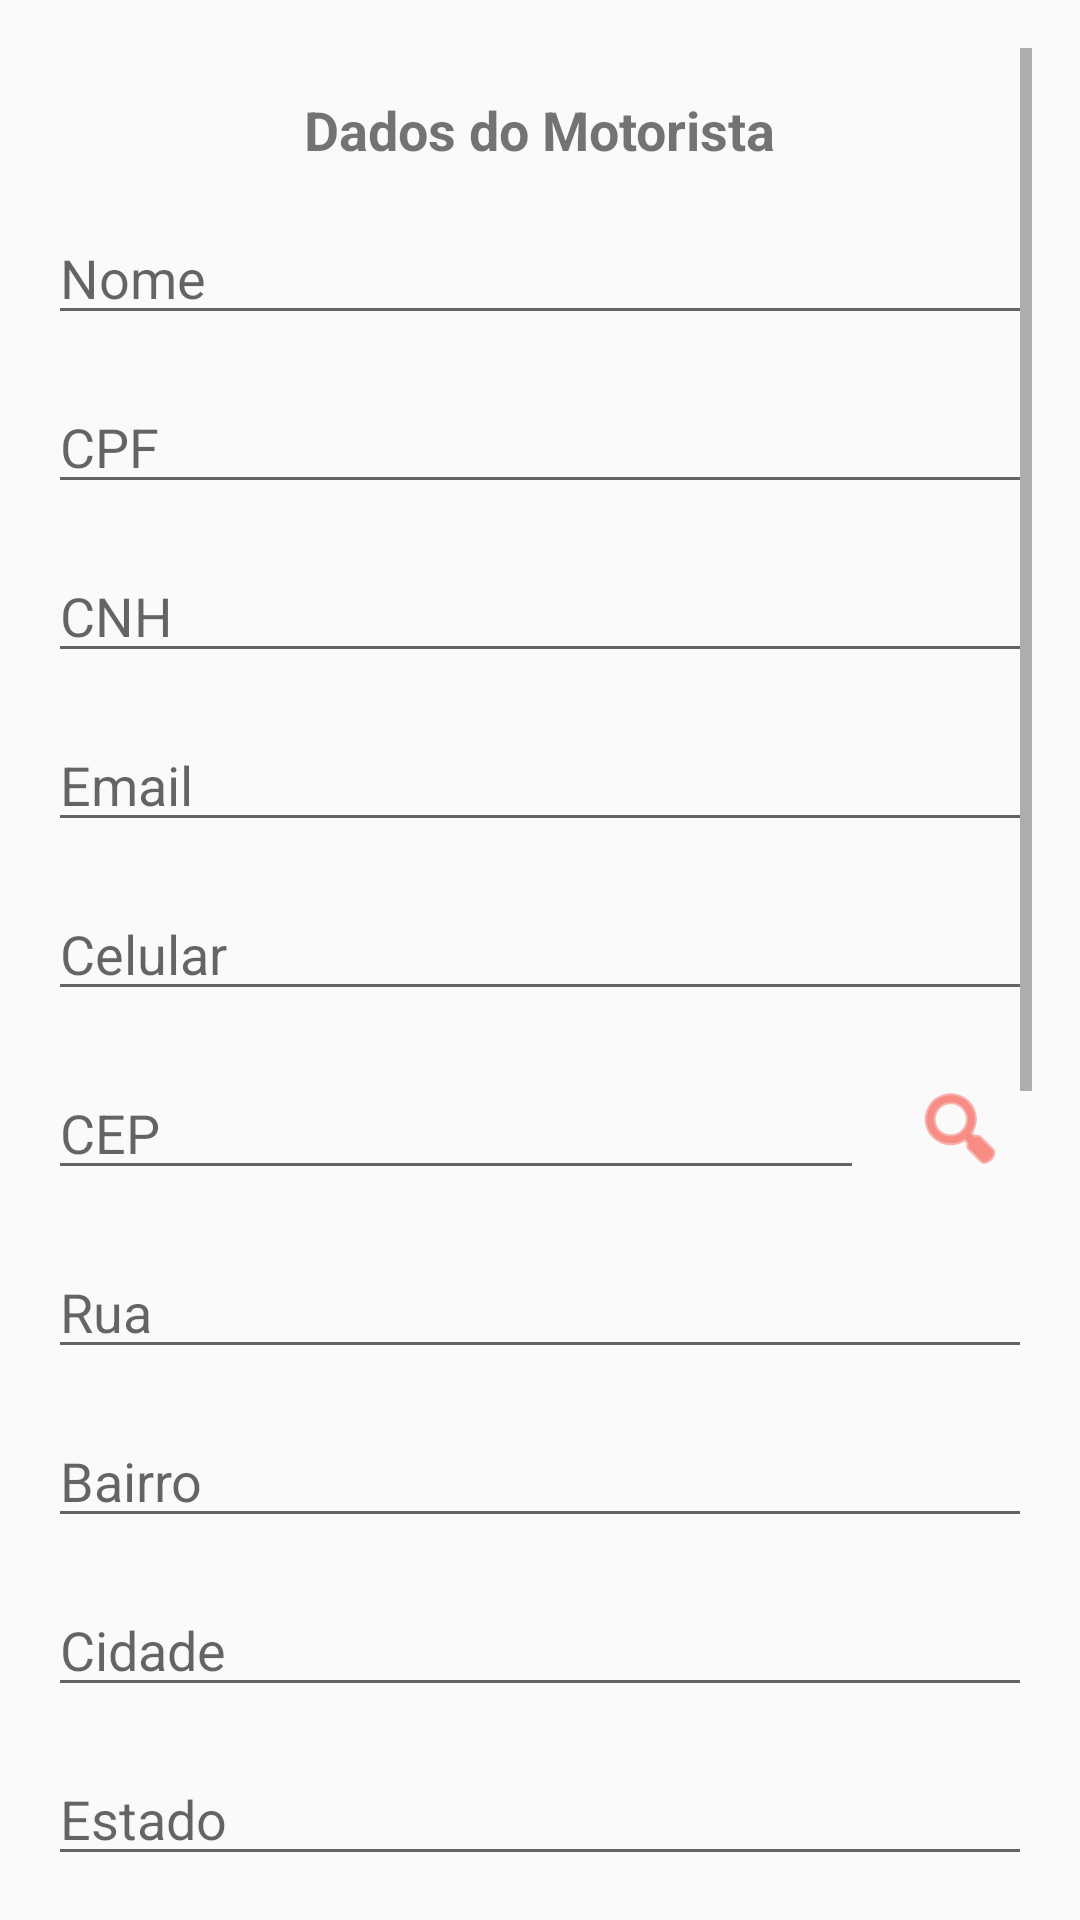

Screen size 1080px×1920px. Icon name, then its center in pixels as (x=x, y=y):
Buscar CEP: (x=960, y=1128)
